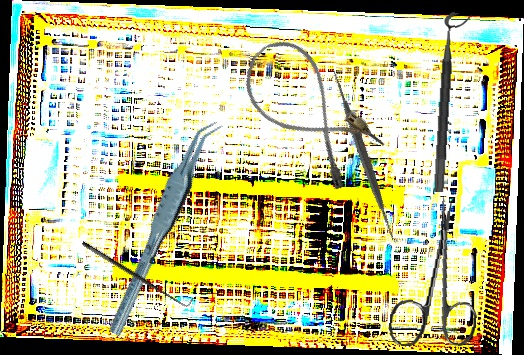Cannula: (227, 26, 391, 196)
Fixation Ring: (432, 11, 472, 194)
Hook Surgical: (80, 232, 196, 314)
Iris Scissors: (387, 192, 489, 354)
Spatula Surgical: (269, 62, 458, 250)
Tissue Forceps: (85, 115, 241, 338)
